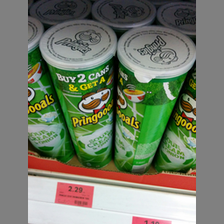chips: (115, 20, 195, 173), (38, 19, 116, 167)
